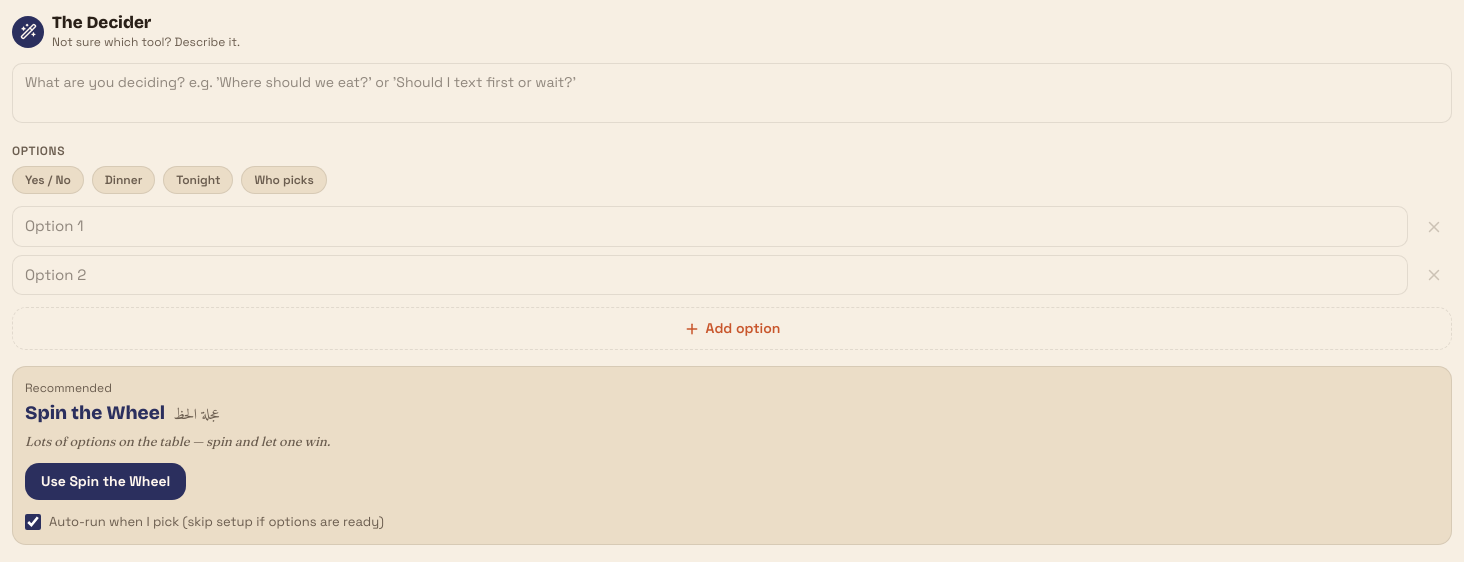
Test: TheDecider › recommendation reacts to description › switches to the playful pick (Roll the Dice) when the description is for fun
First land on the weigh tool…
Type "this is an important decision" into the text box with test id "decider-description" at (732, 93), box [12,63,1452,123]
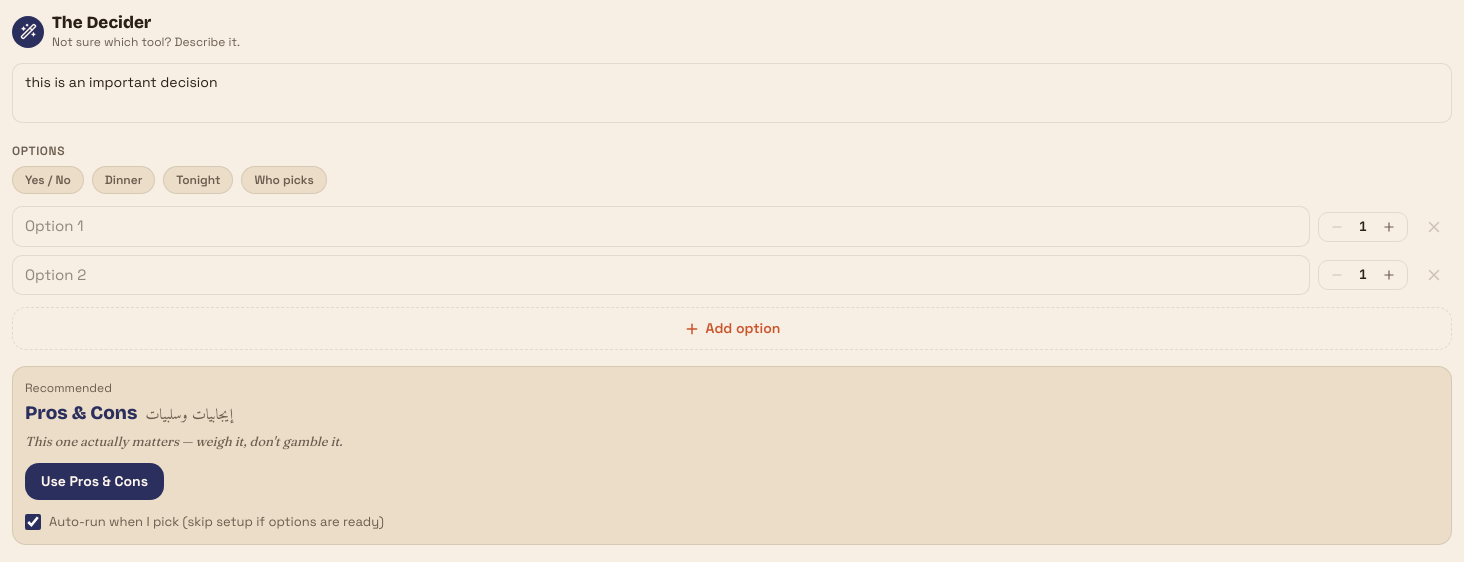
Expected: the text with test id "decider-pick" reads "Pros & Cons", [25,401,137,424]
…then clear + retype a playful prompt → "surprise" hint → Roll the Dice.
Replace the text in the text box with test id "decider-description" with "surprise me, just for fun" at (732, 93), box [12,63,1452,123]
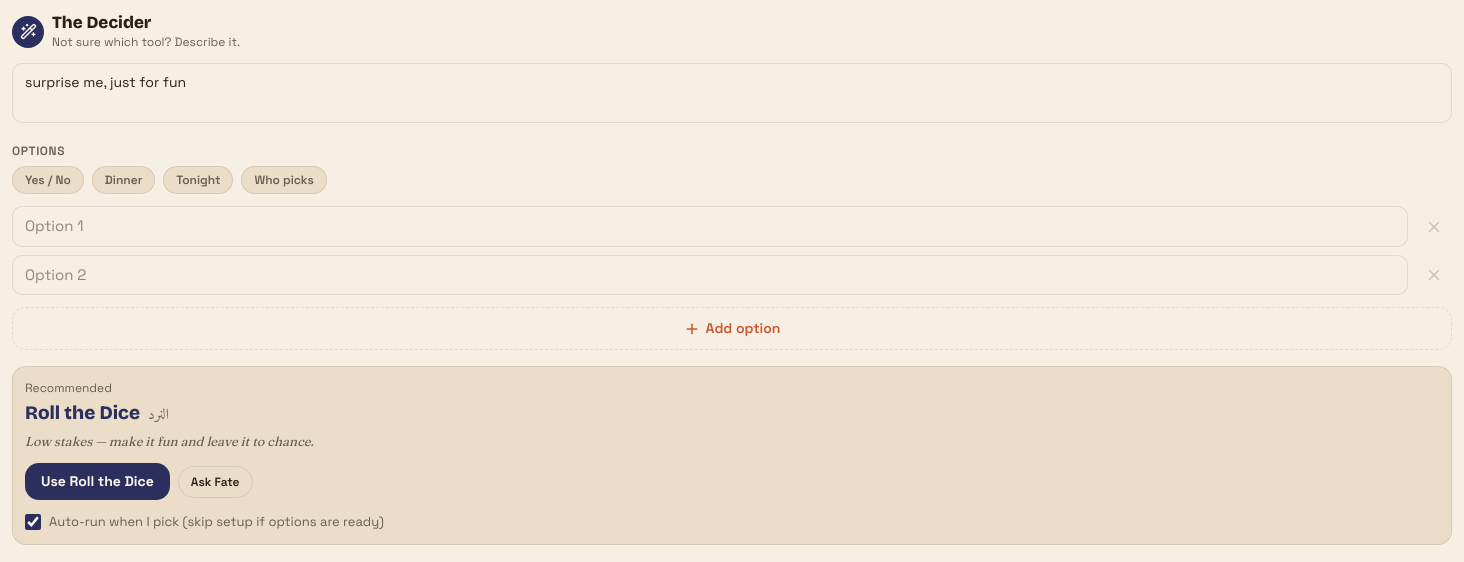
Expected: the text with test id "decider-pick" reads "Roll the Dice", [25,401,140,424]
